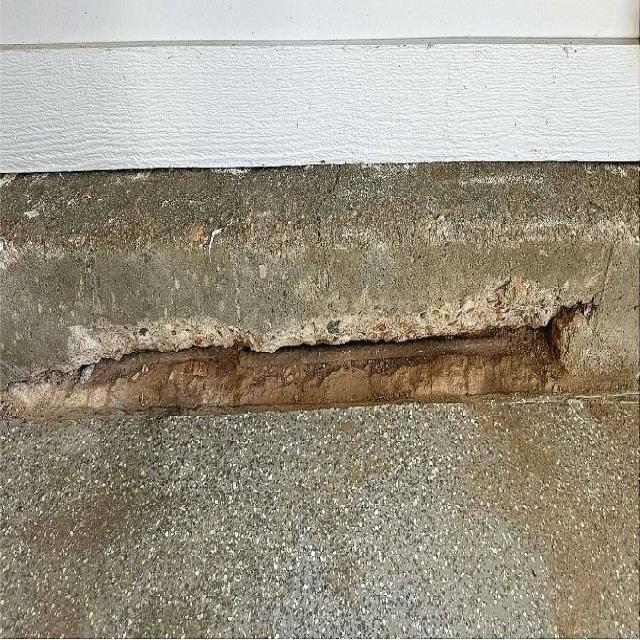Spalling: (0, 303, 592, 419)
